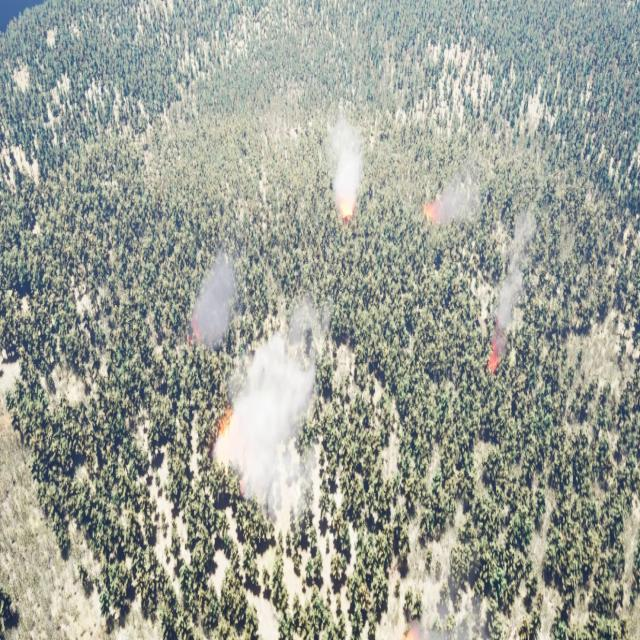fire: (339, 200, 356, 229), (420, 203, 441, 226), (484, 354, 502, 378)
smoke: (209, 306, 329, 536), (490, 198, 540, 358), (189, 243, 239, 363), (329, 116, 369, 214), (430, 176, 482, 229)
